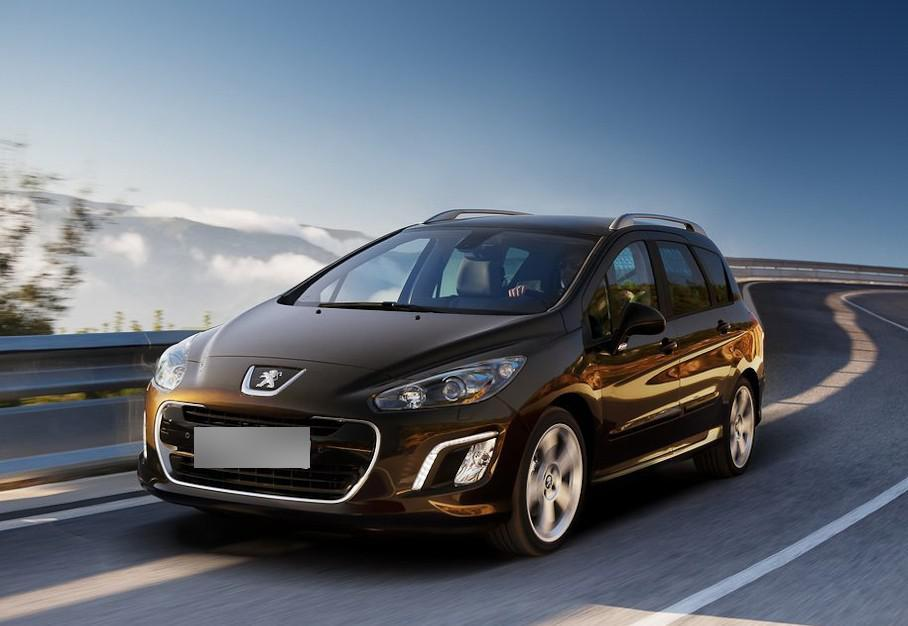Wagon: (139, 208, 765, 557)
